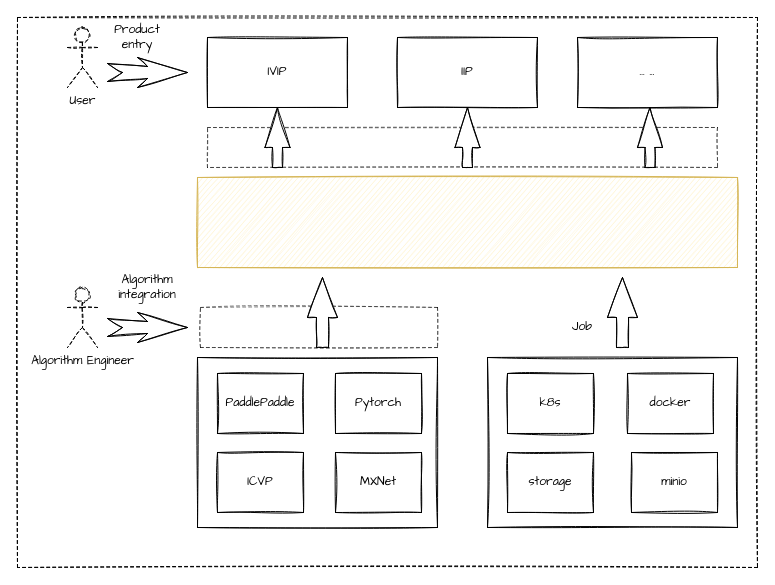
Image size: 775x585. Some labels were removed from this diagram. Each missing label, with the box of its shape:
Gaea: (196, 176, 738, 268)
model train、test、 online、composition: (206, 126, 718, 168)
Pipeline: (200, 306, 438, 348)
